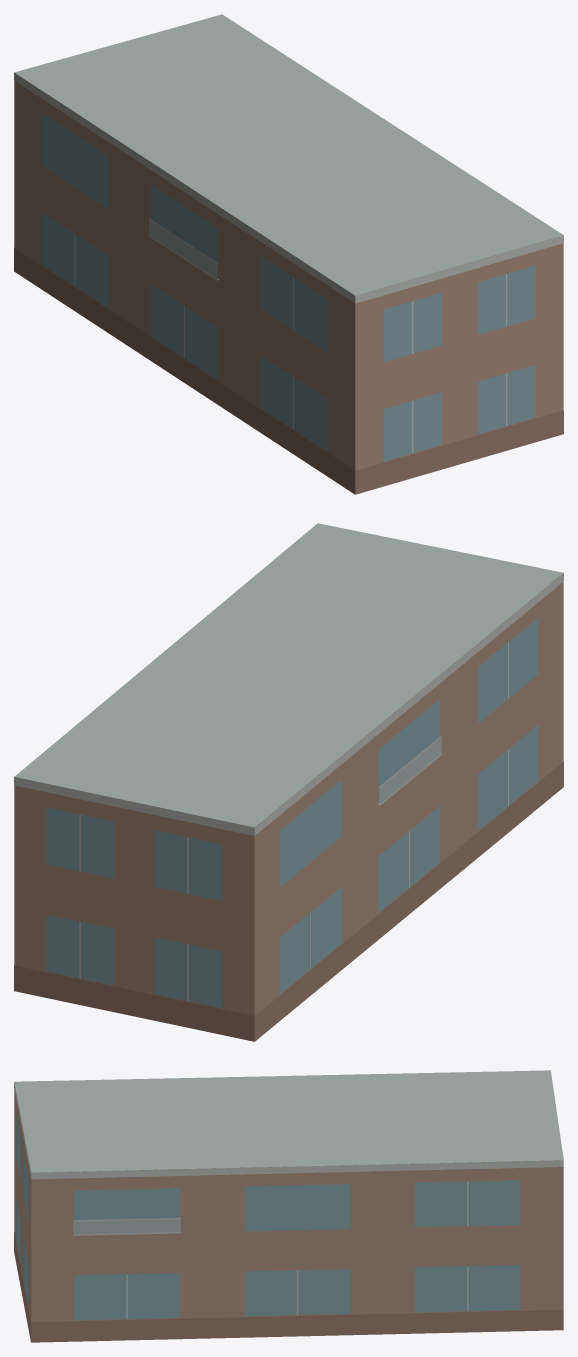
File: survey-upis-32739391.glb
The picture shows the model from 3 angles, top to bottom: view 1: azimuth 30°, elevation 25°; view 2: azimuth 150°, elevation 25°; view 3: azimuth 270°, elevation 25°; orthographic projection. The views are drawn at different scales.
Parts seen in each view (by area): view 1: survey-upis-32739391.tmp; view 2: survey-upis-32739391.tmp; view 3: survey-upis-32739391.tmp.
Part boxes in pixels (x1,y1,x2,y2): survey-upis-32739391.tmp: (14,14,563,494); survey-upis-32739391.tmp: (14,523,563,1041); survey-upis-32739391.tmp: (14,1070,563,1342).
Size of the model in its own units: 7.89 by 6.1 by 17.9.
